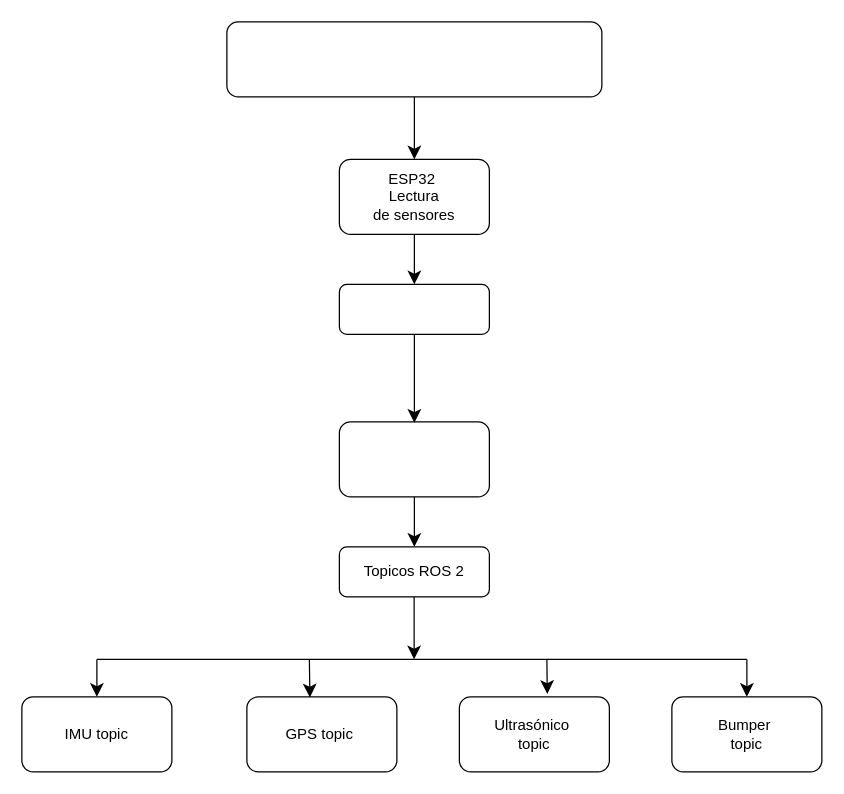
Some shapes in this 844 by 794 pixel diagram are drawn without their labels. The shapes that lost their labels are listed below. From the top down, each one's centre as x and y in pixels, then its label:
point (414, 59): SENSORES IMU GPS HC-SR04 Bumper
point (413, 308): micro-ROS cliente
point (413, 459): Raspberry Pi 5 ros 2 micro_ros_agent
